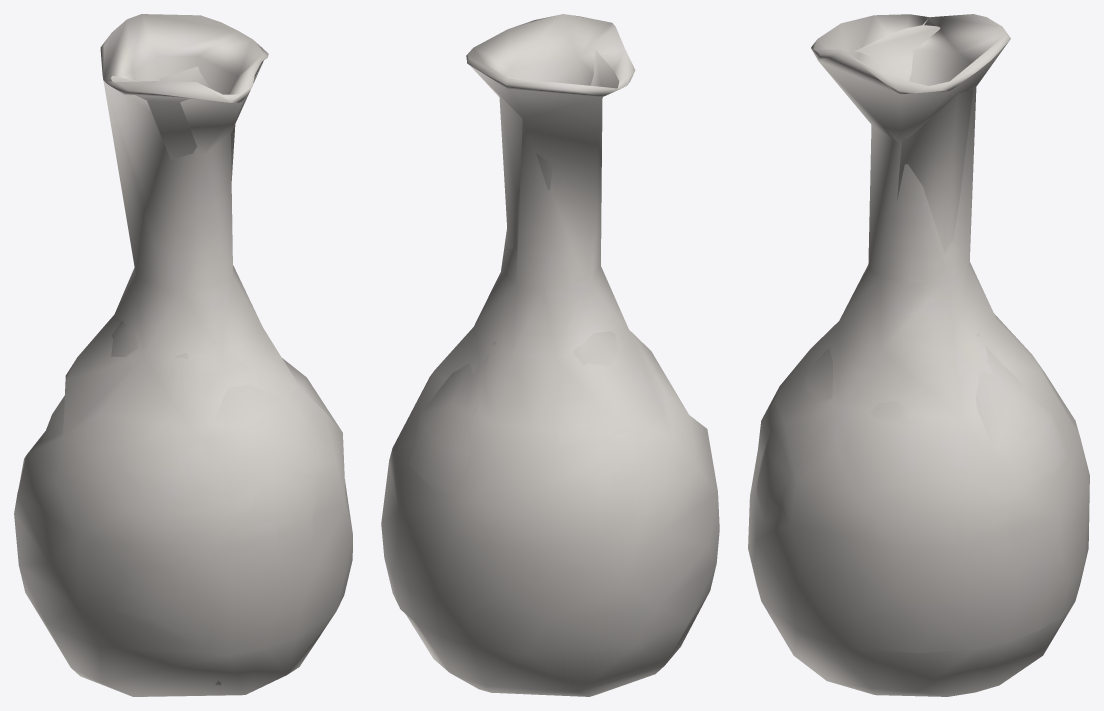
Rendered from ceramic_vase_01.glb.
3 renders of one model, left to right at view 1: azimuth 30°, elevation 25°; view 2: azimuth 150°, elevation 25°; view 3: azimuth 270°, elevation 25°, orthographic.
Visible parts, largest first — view 1: ceramic_vase_01; view 2: ceramic_vase_01; view 3: ceramic_vase_01.
Boxes of the visible parts, <box> form: ceramic_vase_01: <box>14,14,352,696</box>; ceramic_vase_01: <box>381,14,719,696</box>; ceramic_vase_01: <box>748,14,1089,696</box>.
Bounding box in the file's own units: 0.2022 × 0.3998 × 0.2007.
1 material, 1 textured.
